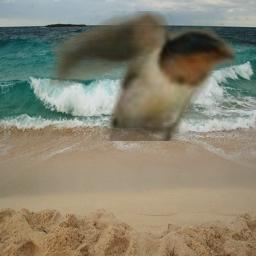Swallow: (50, 11, 235, 141)
